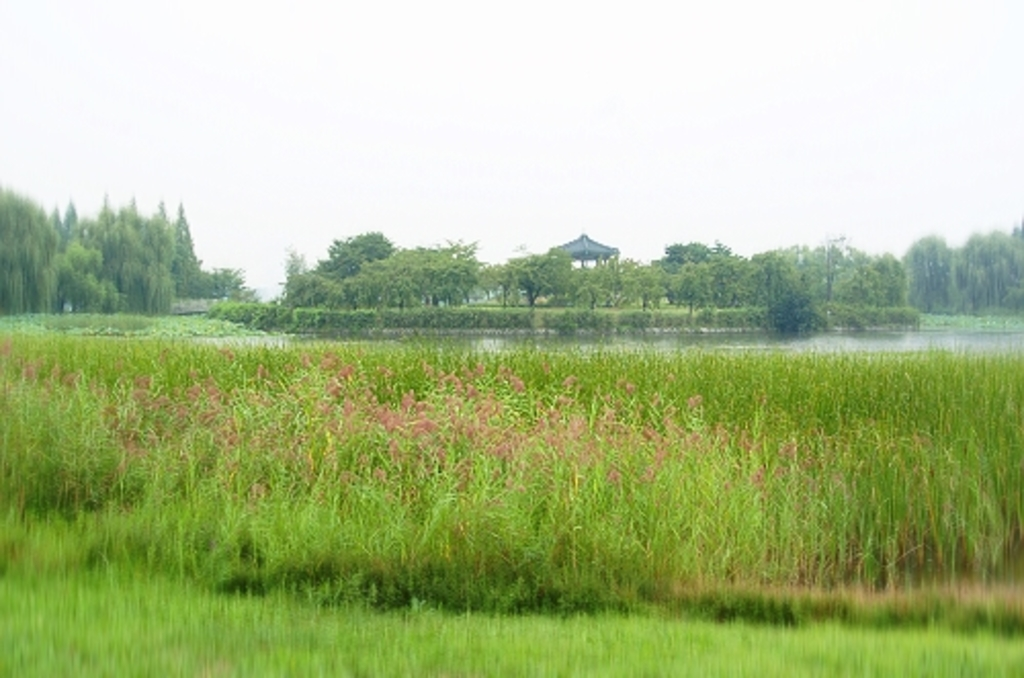Tree: (0, 186, 1024, 336)
